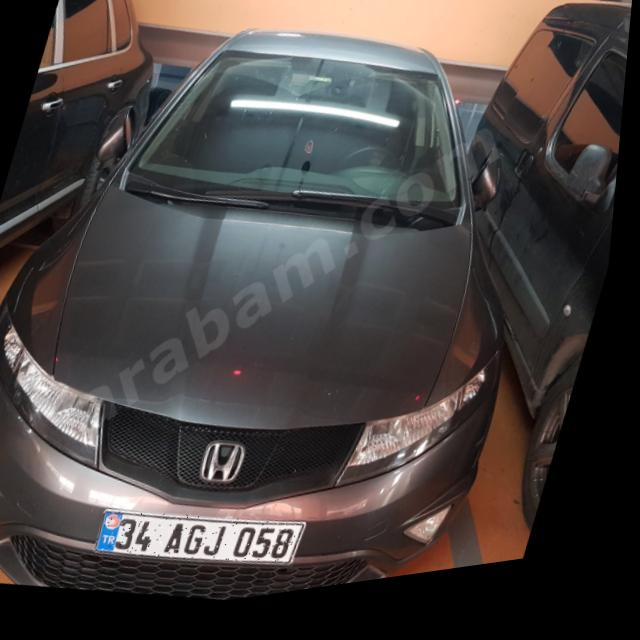license_plate: (100, 491, 318, 599)
